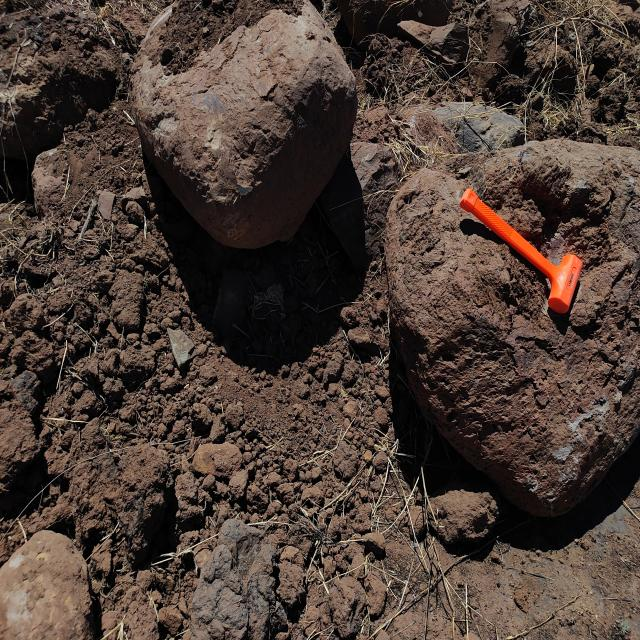Orange_hammer: (458, 186, 583, 315)
